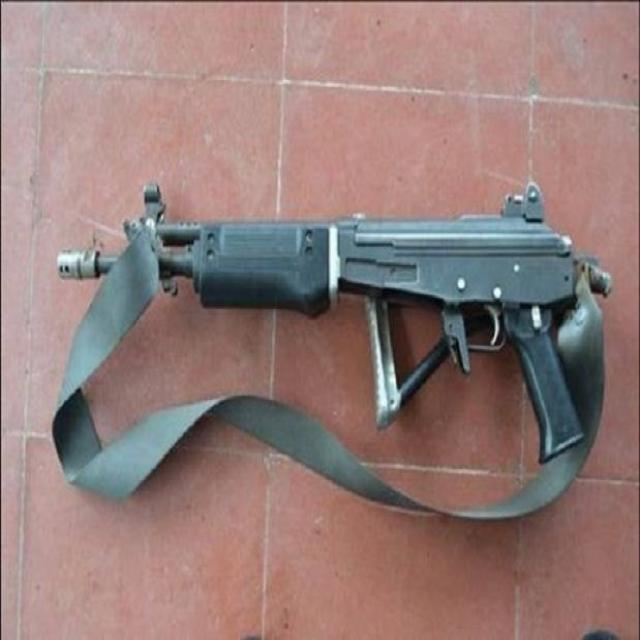firearm: (56, 186, 586, 466)
